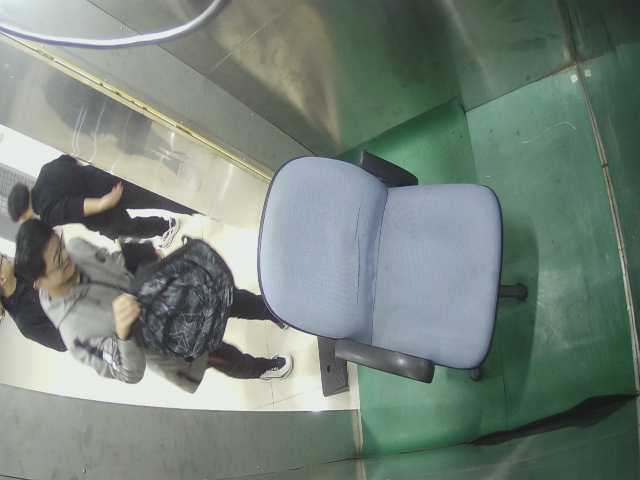bag: (126, 237, 240, 364)
chair: (249, 146, 524, 391)
person: (11, 222, 271, 385)
